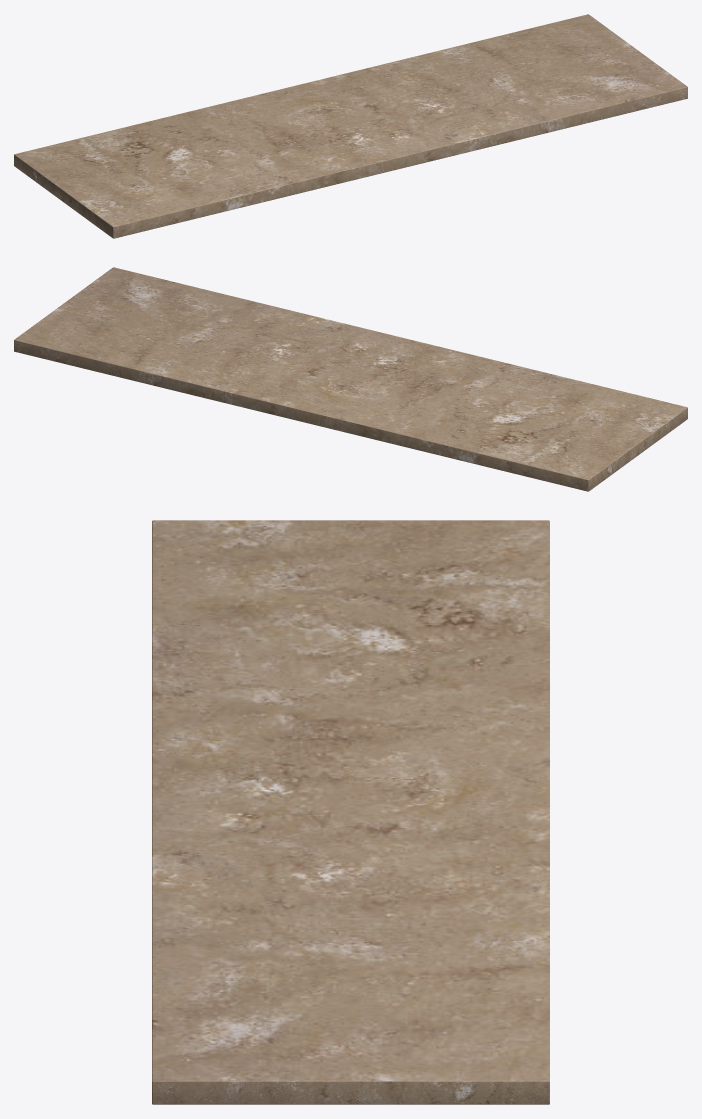
File: countertop-2m-by-0.6m.glb
3 views of the same model, one above another, from view 1: azimuth 30°, elevation 25°; view 2: azimuth 150°, elevation 25°; view 3: azimuth 270°, elevation 25° (orthographic). The views are drawn at different scales.
Parts seen in each view (by area): view 1: countertop; view 2: countertop; view 3: countertop.
Part boxes in pixels (box(x1,y1,x2,y2)): countertop: box(14, 14, 687, 238); countertop: box(14, 267, 687, 491); countertop: box(152, 520, 549, 1104).
Bounding box in the file's own units: 2 × 0.04 × 0.6.
1 material, 1 textured.
